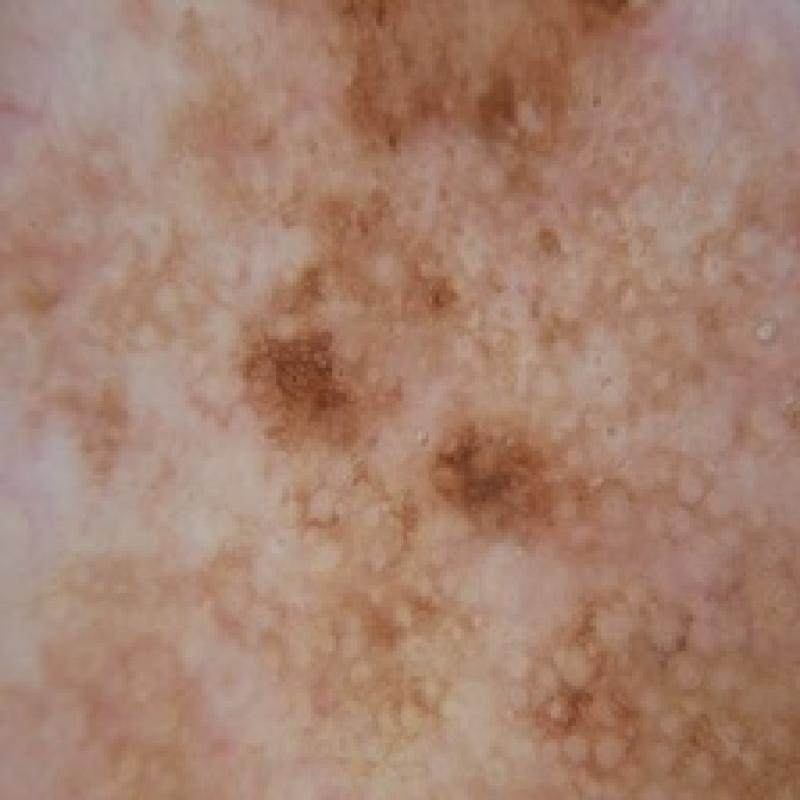malignant: (210, 5, 726, 592)
